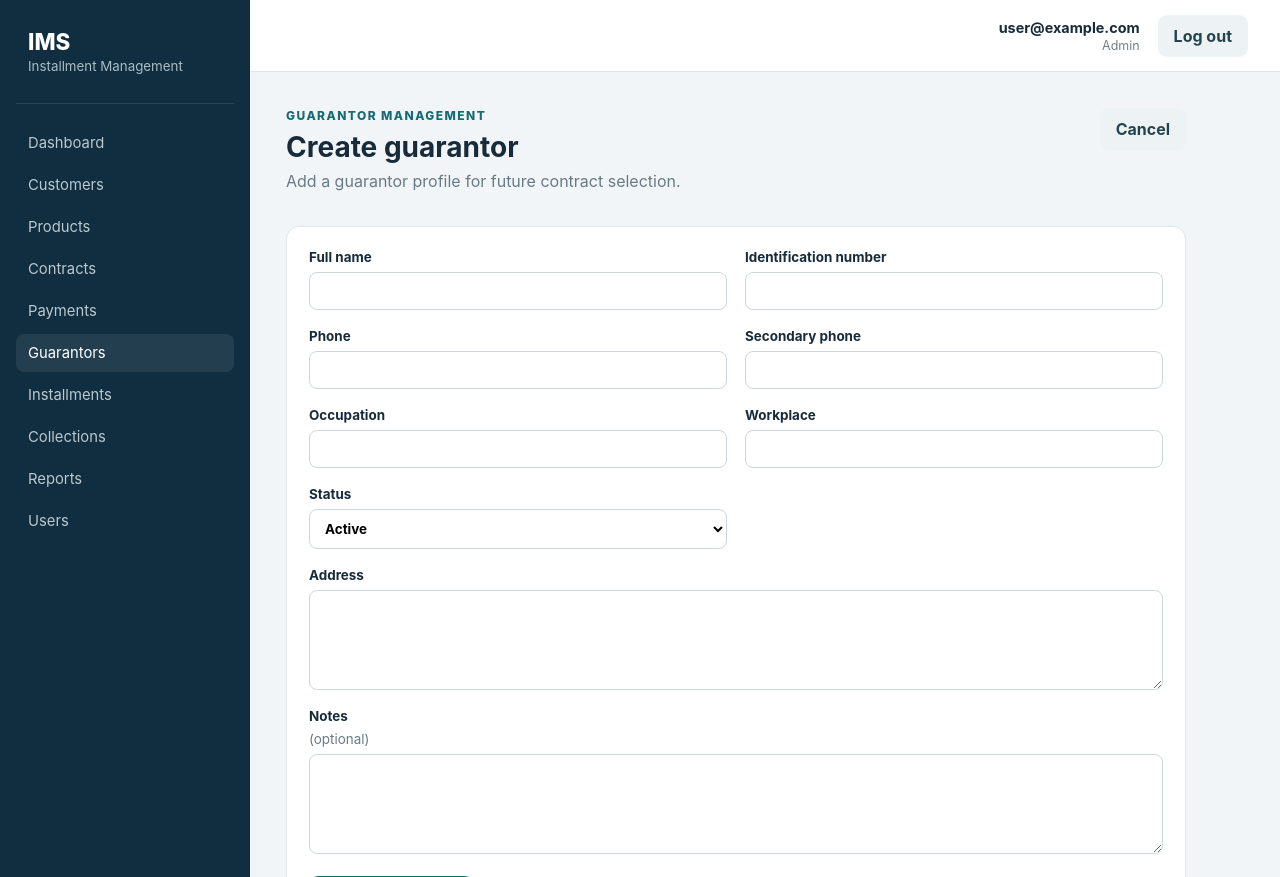
Test: Guarantors module › handles create error 400 safely
Expected: the heading "Create guarantor" is shown, [286, 130, 519, 164]
Type "New Guarantor" into the field labelled "Full name" at (518, 291), box [309, 272, 727, 310]
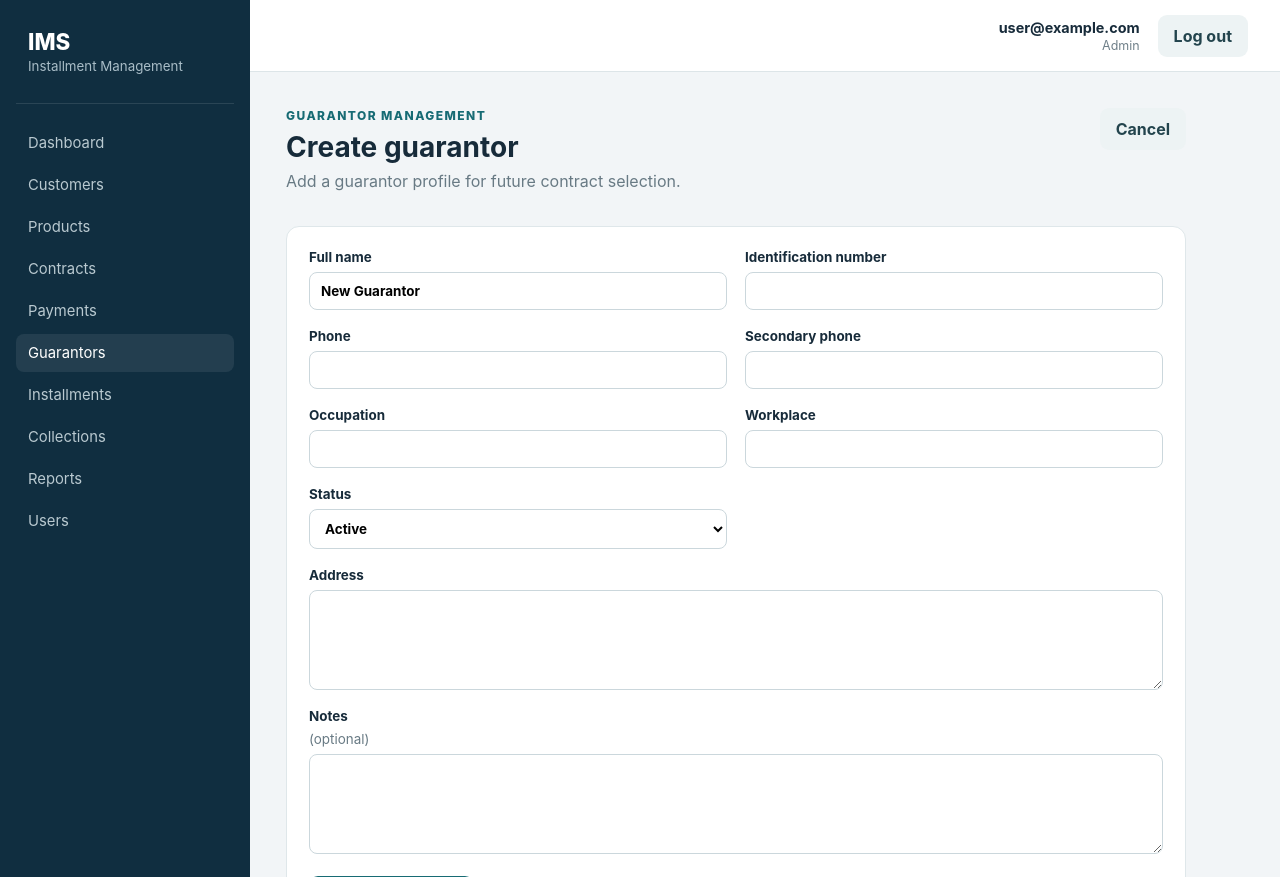
Type "NEW-G" into the field labelled "Identification number" at (954, 291), box [745, 272, 1163, 310]
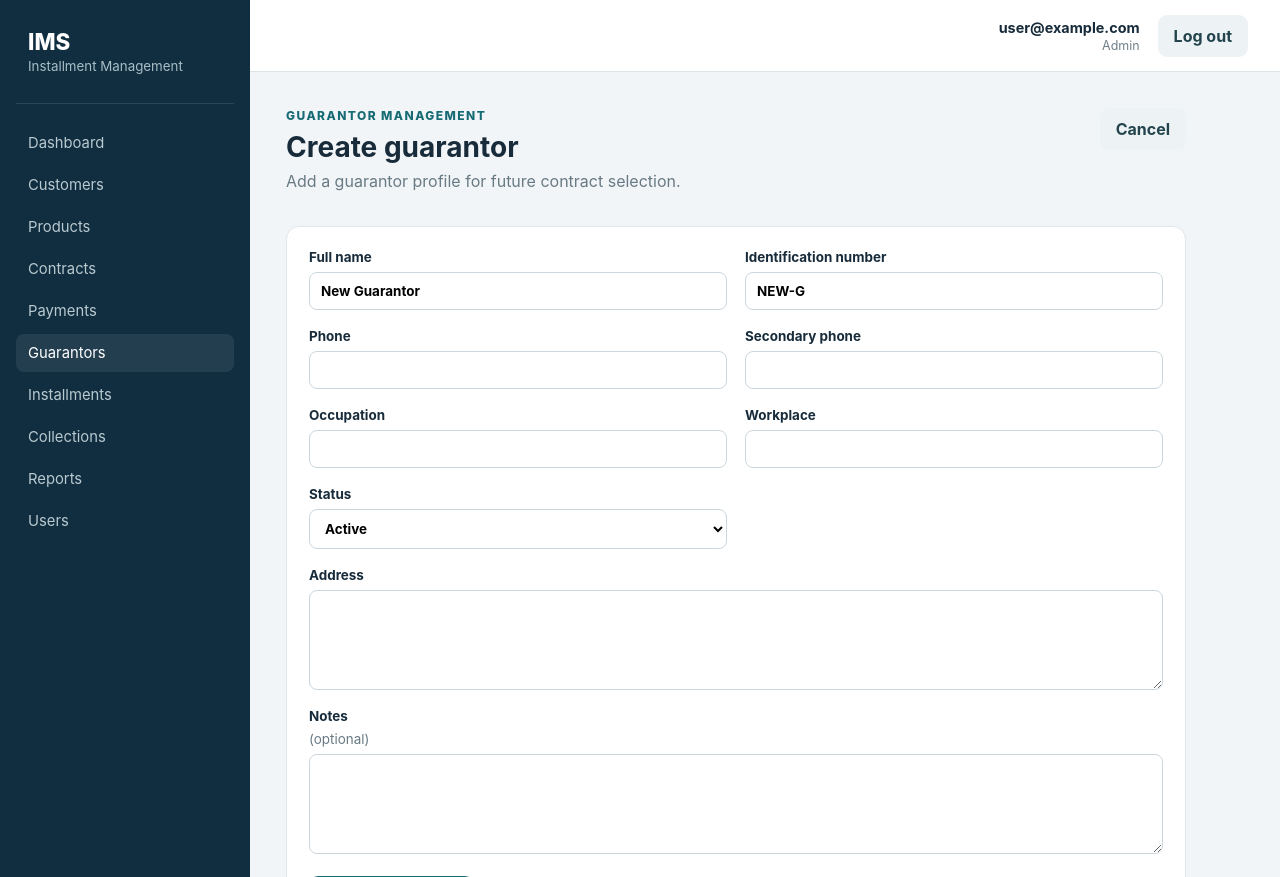
Type "+964 770-1111111" into the field labelled "Phone" at (518, 370), box [309, 351, 727, 389]
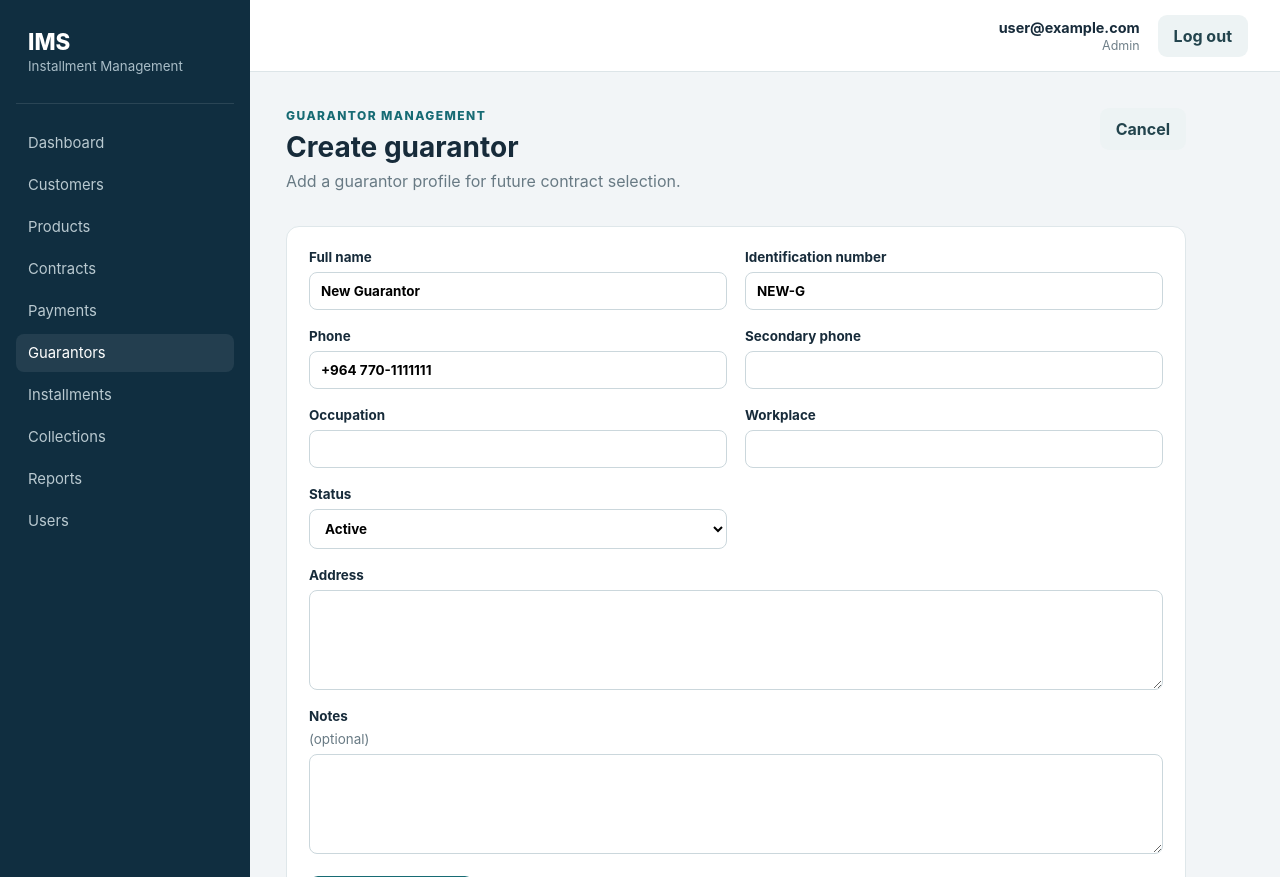
Type "Baghdad" into the text box labelled "Address" at (736, 640), box [309, 590, 1163, 690]
(page scrolled)
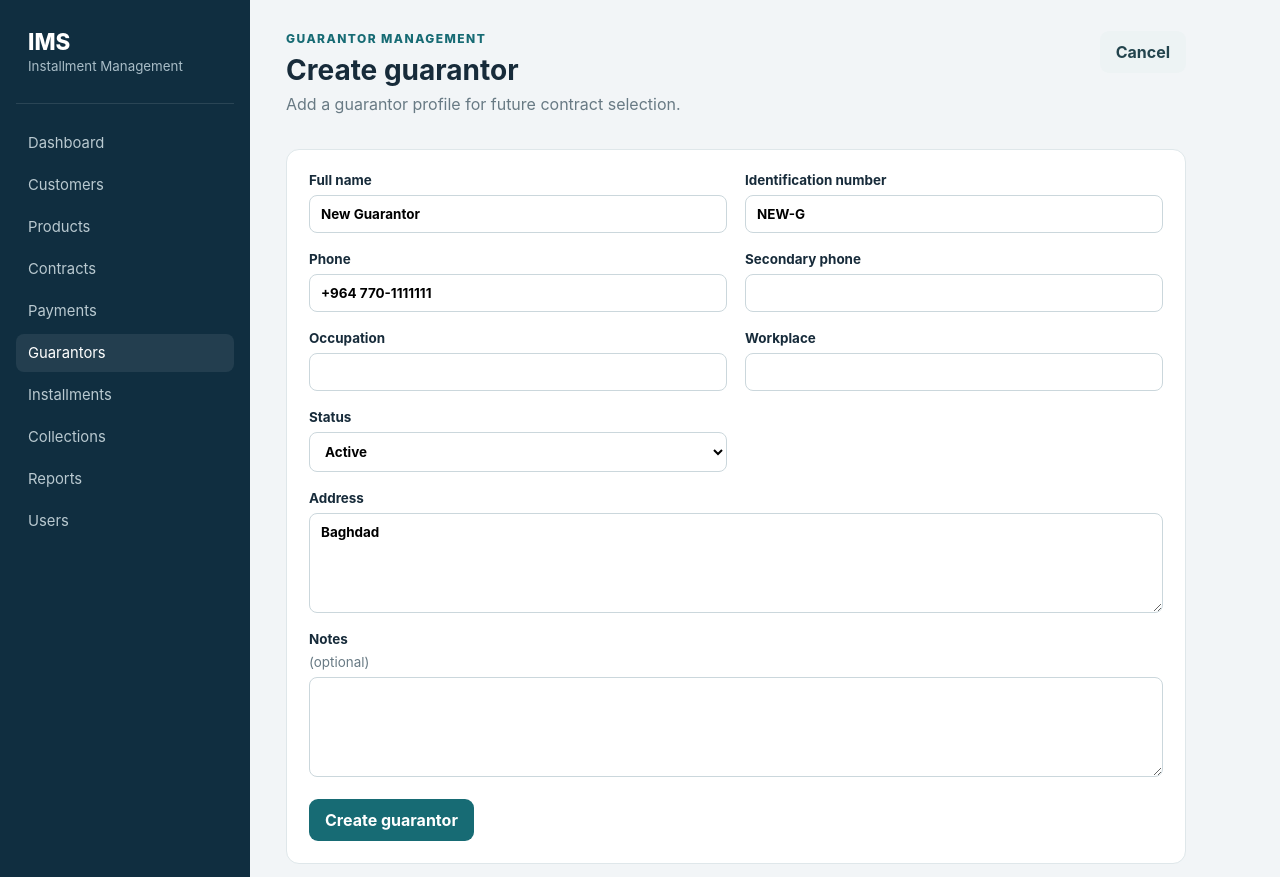
Click the button "Create guarantor" at (391, 820), box [309, 799, 474, 841]
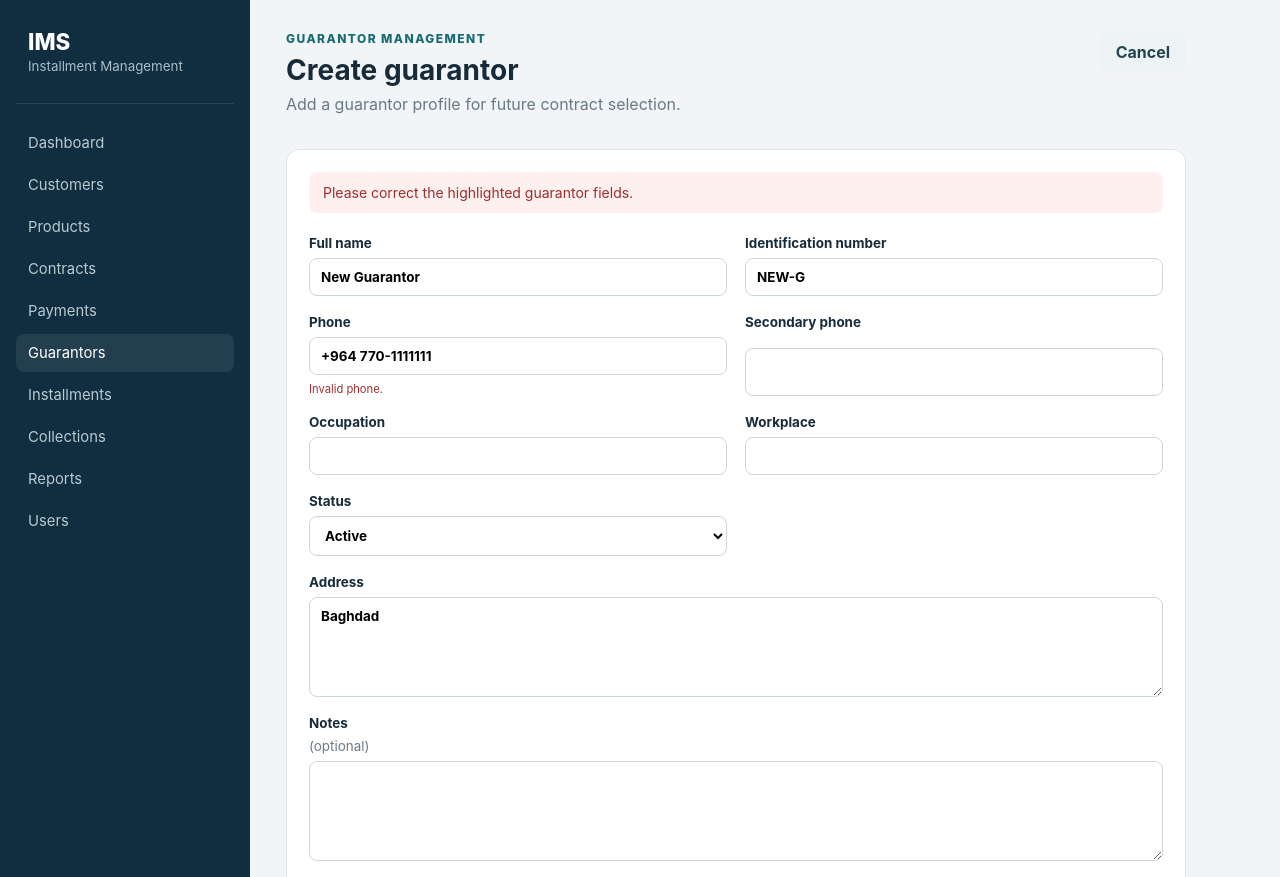
Expected: the message shows "correct the highlighted", [323, 184, 633, 201]
